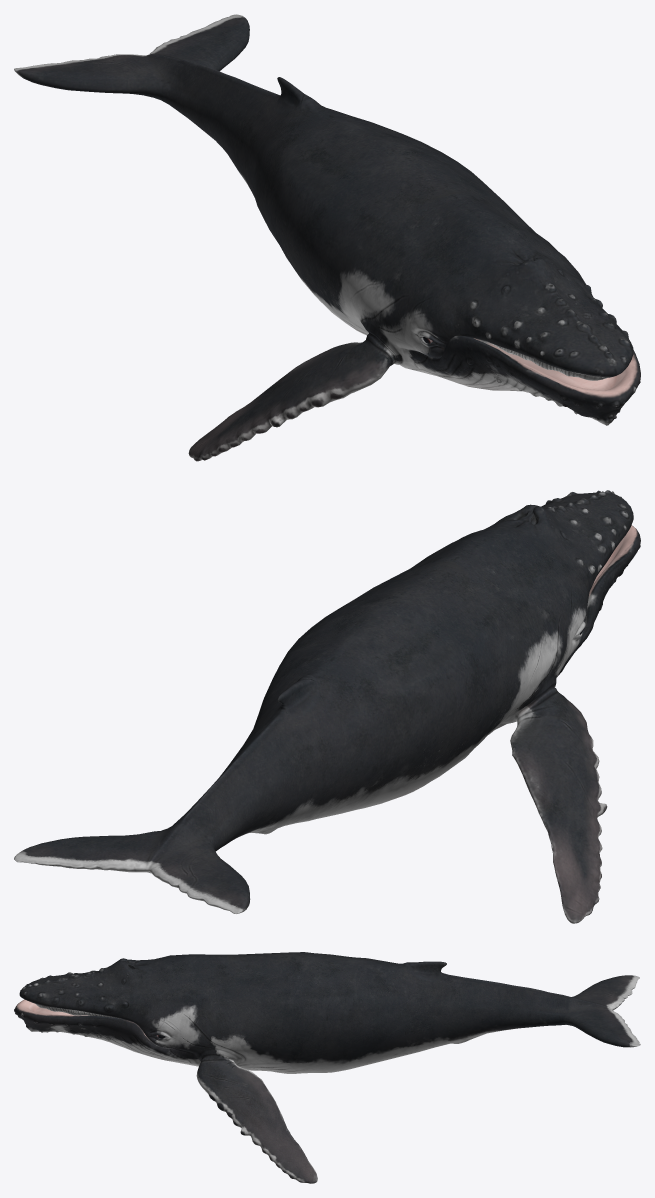
Rendered from baleia_jubarte.glb.
The picture shows the model from 3 angles, top to bottom: view 1: azimuth 30°, elevation 25°; view 2: azimuth 150°, elevation 25°; view 3: azimuth 270°, elevation 25°; orthographic projection. The views are drawn at different scales.
Visible parts, largest first — view 1: humpback_whale_LOD2.1_1; view 2: humpback_whale_LOD2.1_1; view 3: humpback_whale_LOD2.1_1.
Boxes of the visible parts, x1,y1,x2,y2 form: humpback_whale_LOD2.1_1: [14, 14, 640, 461]; humpback_whale_LOD2.1_1: [14, 490, 640, 923]; humpback_whale_LOD2.1_1: [14, 952, 640, 1183].
Size of the model in its own units: 1.59 by 1.02 by 3.46.
Materials: 1 (1 with a texture image).
